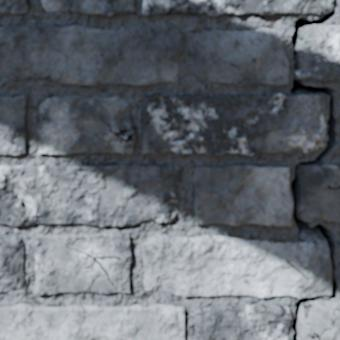brick: (142, 234, 330, 298), (142, 94, 328, 155), (0, 164, 182, 226), (0, 26, 181, 85), (0, 304, 184, 339), (34, 233, 130, 295), (194, 164, 291, 225), (36, 95, 136, 153), (193, 28, 288, 85), (195, 304, 290, 339), (172, 0, 334, 15), (299, 164, 339, 221), (300, 26, 339, 81), (0, 96, 25, 154), (302, 300, 339, 339), (42, 0, 133, 15), (0, 235, 24, 291), (149, 0, 178, 14), (0, 0, 27, 13), (143, 1, 149, 14)
crack: (289, 1, 339, 339), (100, 116, 136, 144), (4, 181, 26, 225), (32, 185, 55, 224), (309, 317, 335, 339), (167, 0, 185, 14), (144, 0, 153, 14)
